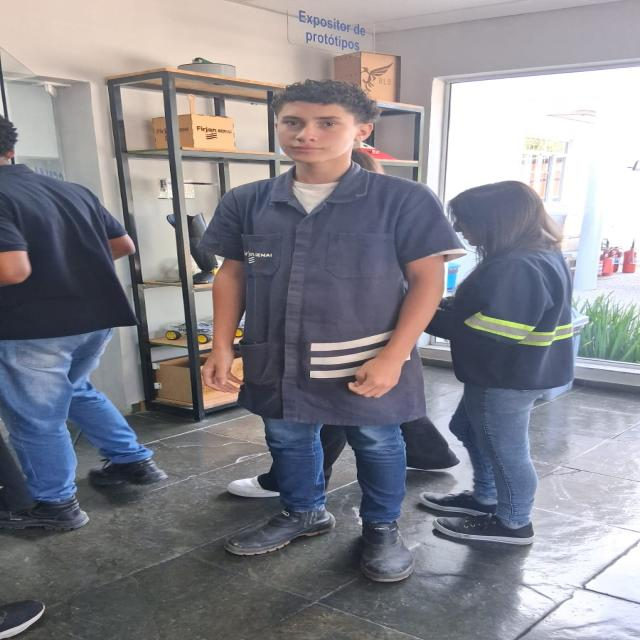BOTA: (216, 506, 341, 556), (357, 518, 416, 585), (4, 491, 97, 531), (90, 454, 166, 486)
JALECO: (193, 162, 469, 428)
SEM BOTA: (437, 516, 539, 546), (223, 472, 331, 497), (418, 490, 507, 516), (0, 599, 46, 639)
SEM LUVA: (342, 356, 407, 398), (201, 347, 250, 398)
